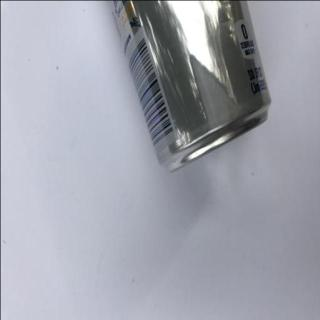Anorganik: (112, 0, 274, 173)
